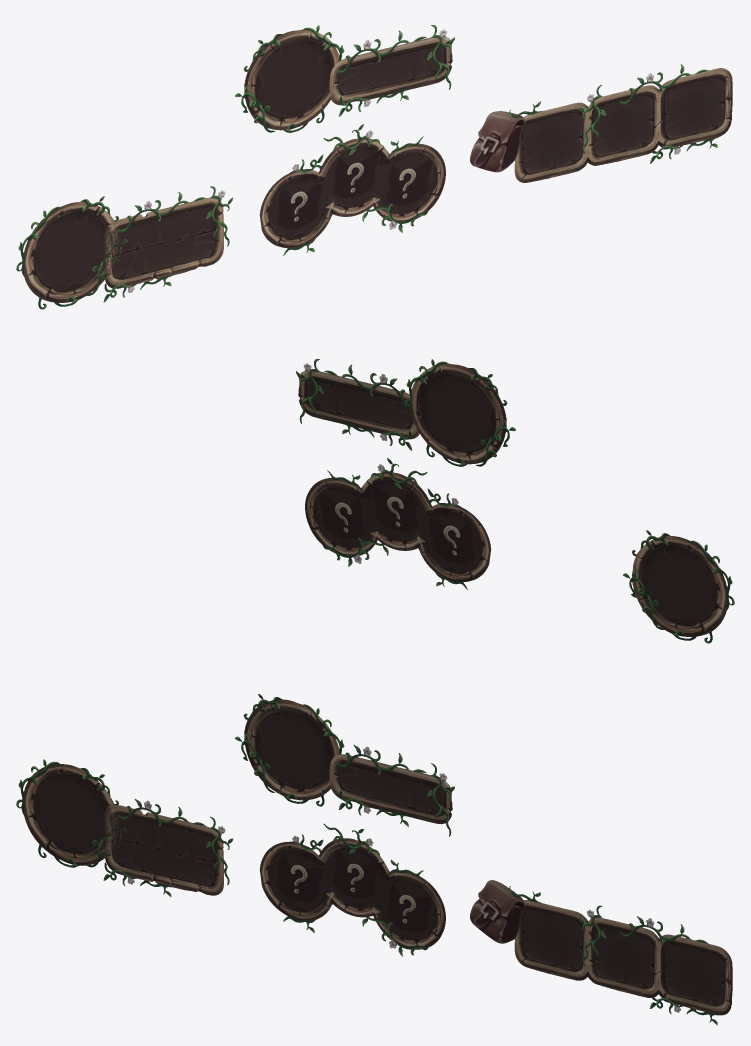
The model's file is Gameplay GUI.FBX.
3 renders of one model, top to bottom at view 1: azimuth 30°, elevation 25°; view 2: azimuth 150°, elevation 25°; view 3: azimuth 330°, elevation 25°, orthographic.
Parts seen in each view (by area): view 1: GUI Inventory, GUI Player Gauge, GUI Griffin Gauge, GUI Cats; view 2: GUI Griffin Gauge, GUI Cats, GUI Player Gauge; view 3: GUI Inventory, GUI Player Gauge, GUI Griffin Gauge, GUI Cats.
Part boxes in pixels (x1,y1,x2,y2): GUI Inventory: (470,64,732,182); GUI Player Gauge: (16,186,232,309); GUI Griffin Gauge: (235,25,454,132); GUI Cats: (259,124,445,255); GUI Griffin Gauge: (296,359,515,466); GUI Cats: (305,458,491,589); GUI Player Gauge: (623,530,734,643); GUI Inventory: (470,880,732,1025); GUI Player Gauge: (16,759,232,896); GUI Griffin Gauge: (235,694,454,836); GUI Cats: (259,823,445,956).
Bounding box in the file's own units: 392 × 2.49e-05 × 124.
